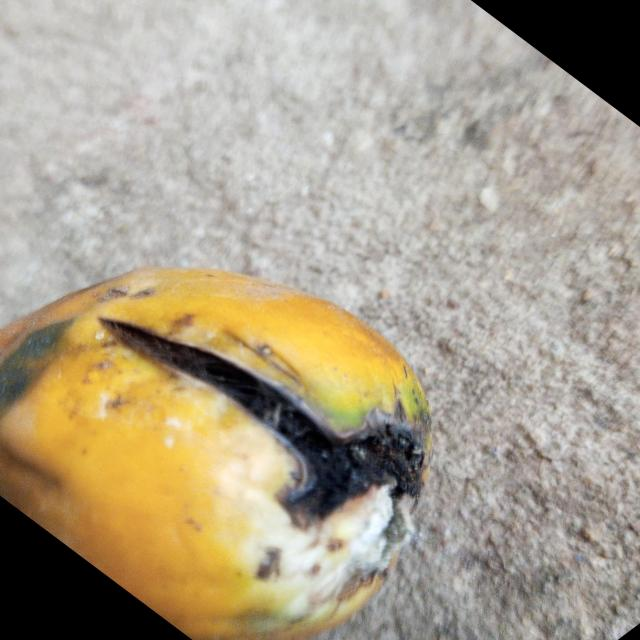damaged: (0, 268, 430, 640)
